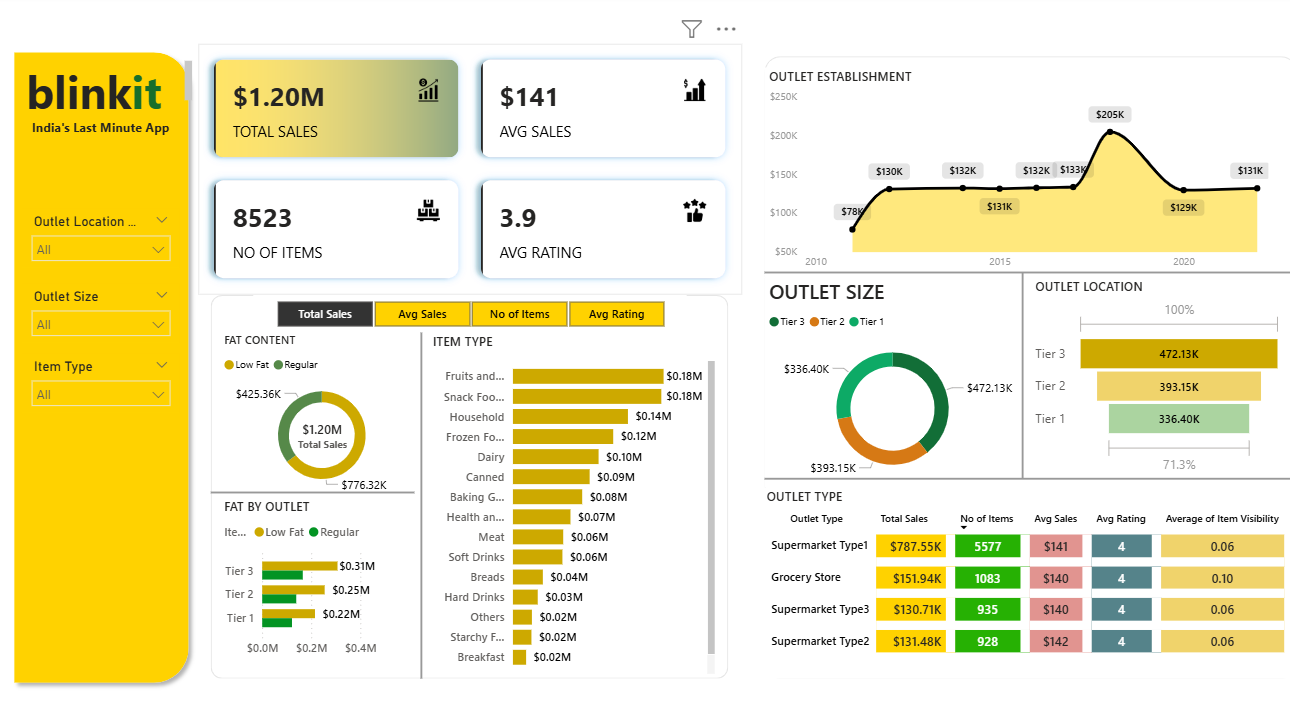

Layout of this report page (visuals, bound fields, positions):
{"tool":"powerbi","page":{"name":"Page 1","canvas":[1400,800],"ordinal":0},"visuals":[{"type":"shape","box":[14.7,52.3,205.1,694.4],"z":0},{"type":"textbox","box":[32.2,65.7,187.7,61.7],"z":1000},{"type":"textbox","box":[32.2,127.3,168.9,28.2],"z":2000},{"type":"cardVisual","fields":{"Data":["BlinkIT Grocery Data.Total Sales","BlinkIT Grocery Data.Avg Sales","BlinkIT Grocery Data.No of Items","BlinkIT Grocery Data.Avg Rating"]},"box":[221.2,52.3,583.1,269.4],"z":3000},{"type":"shape","box":[234.6,321.7,555,411.5],"z":4000},{"type":"donutChart","title":"FAT CONTENT","fields":{"Y":["BlinkIT Grocery Data.Total Sales"],"Category":["BlinkIT Grocery Data.Item Fat Content"]},"box":[244,361.9,219.8,176.9],"z":5000},{"type":"slicer","fields":{"Values":["Metrics.Metrics"]},"box":[280.2,321.7,465.1,40.2],"z":6000},{"type":"cardVisual","fields":{"Data":["BlinkIT Grocery Data.Total Sales"]},"box":[290.9,439.7,127.3,59],"z":7000},{"type":"clusteredBarChart","title":"FAT BY OUTLET","fields":{"Y":["BlinkIT Grocery Data.Total Sales"],"Category":["BlinkIT Grocery Data.Outlet Location Type"],"Series":["BlinkIT Grocery Data.Item Fat Content"]},"box":[244,538.9,190.3,179.6],"z":8000},{"type":"shape","box":[234.6,518.8,218.5,29.5],"z":9000},{"type":"shape","box":[453.1,361.9,14.7,371.3],"z":10000},{"type":"barChart","title":"ITEM TYPE","fields":{"Y":["BlinkIT Grocery Data.Total Sales"],"Category":["BlinkIT Grocery Data.Item Type"]},"box":[467.8,361.9,312.3,371.3],"z":11000},{"type":"shape","box":[828.4,65.7,571,667.6],"z":12000},{"type":"lineChart","title":"OUTLET ESTABLISHMENT","fields":{"Y":["BlinkIT Grocery Data.Total Sales"],"Category":["BlinkIT Grocery Data.Outlet Establishment Year"]},"box":[828.4,77.7,545.6,225.2],"z":13000},{"type":"shape","box":[828.4,292.2,571,10.7],"z":14000},{"type":"donutChart","title":"OUTLET SIZE","fields":{"Y":["BlinkIT Grocery Data.Total Sales"],"Category":["BlinkIT Grocery Data.Outlet Location Type"]},"box":[828.4,303,275,225],"z":15000},{"type":"shape","box":[1096.5,297.6,17.4,221.2],"z":16000},{"type":"funnel","title":"OUTLET LOCATION","fields":{"Y":["Sum(BlinkIT Grocery Data.Sales)"],"Category":["BlinkIT Grocery Data.Outlet Location Type"]},"box":[1113.9,303,274.8,215.8],"z":17000},{"type":"shape","box":[828.4,513.4,571,10.7],"z":18000},{"type":"pivotTable","title":"OUTLET TYPE","fields":{"Rows":["BlinkIT Grocery Data.Outlet Type"],"Values":["BlinkIT Grocery Data.Total Sales","BlinkIT Grocery Data.No of Items","BlinkIT Grocery Data.Avg Sales","BlinkIT Grocery Data.Avg Rating","Avg(BlinkIT Grocery Data.Item Visibility)"]},"box":[825.7,528.2,573.7,205.1],"z":19000},{"type":"slicer","fields":{"Values":["BlinkIT Grocery Data.Outlet Location Type"]},"box":[32.2,229.2,168.9,63],"z":20000},{"type":"slicer","fields":{"Values":["BlinkIT Grocery Data.Outlet Size"]},"box":[32.2,309.7,168.9,63],"z":21000},{"type":"slicer","fields":{"Values":["BlinkIT Grocery Data.Item Type"]},"box":[32.2,384.7,168.9,63],"z":22000}]}

Visuals, with their boxes on the page's 1400x800 design canvas (x1, y1, x2, y2). These are canvas units, not pixel positions in the 1290x702 screenshot, which may show the page scaled, cropped or inside an application window:
shape: x1=15 y1=52 x2=220 y2=747
textbox: x1=32 y1=66 x2=220 y2=127
textbox: x1=32 y1=127 x2=201 y2=156
cardVisual - BlinkIT Grocery Data.Total Sales x BlinkIT Grocery Data.Avg Sales: x1=221 y1=52 x2=804 y2=322
shape: x1=235 y1=322 x2=790 y2=733
"FAT CONTENT" donutChart: x1=244 y1=362 x2=464 y2=539
slicer - Metrics.Metrics: x1=280 y1=322 x2=745 y2=362
cardVisual - BlinkIT Grocery Data.Total Sales: x1=291 y1=440 x2=418 y2=499
"FAT BY OUTLET" clusteredBarChart: x1=244 y1=539 x2=434 y2=718
shape: x1=235 y1=519 x2=453 y2=548
shape: x1=453 y1=362 x2=468 y2=733
"ITEM TYPE" barChart: x1=468 y1=362 x2=780 y2=733
shape: x1=828 y1=66 x2=1399 y2=733
"OUTLET ESTABLISHMENT" lineChart: x1=828 y1=78 x2=1374 y2=303
shape: x1=828 y1=292 x2=1399 y2=303
"OUTLET SIZE" donutChart: x1=828 y1=303 x2=1103 y2=528
shape: x1=1096 y1=298 x2=1114 y2=519
"OUTLET LOCATION" funnel: x1=1114 y1=303 x2=1389 y2=519
shape: x1=828 y1=513 x2=1399 y2=524
"OUTLET TYPE" pivotTable: x1=826 y1=528 x2=1399 y2=733
slicer - BlinkIT Grocery Data.Outlet Location Type: x1=32 y1=229 x2=201 y2=292
slicer - BlinkIT Grocery Data.Outlet Size: x1=32 y1=310 x2=201 y2=373
slicer - BlinkIT Grocery Data.Item Type: x1=32 y1=385 x2=201 y2=448
